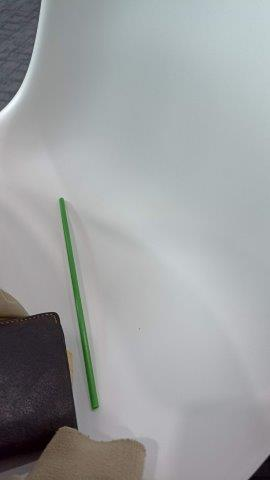sedotan: (58, 197, 98, 410)
